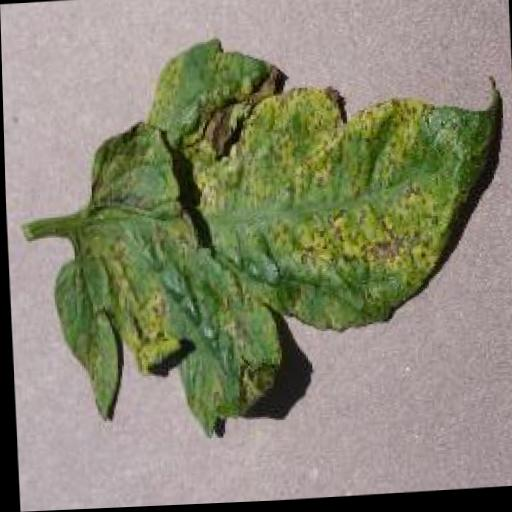Septoria: (42, 23, 512, 451)
